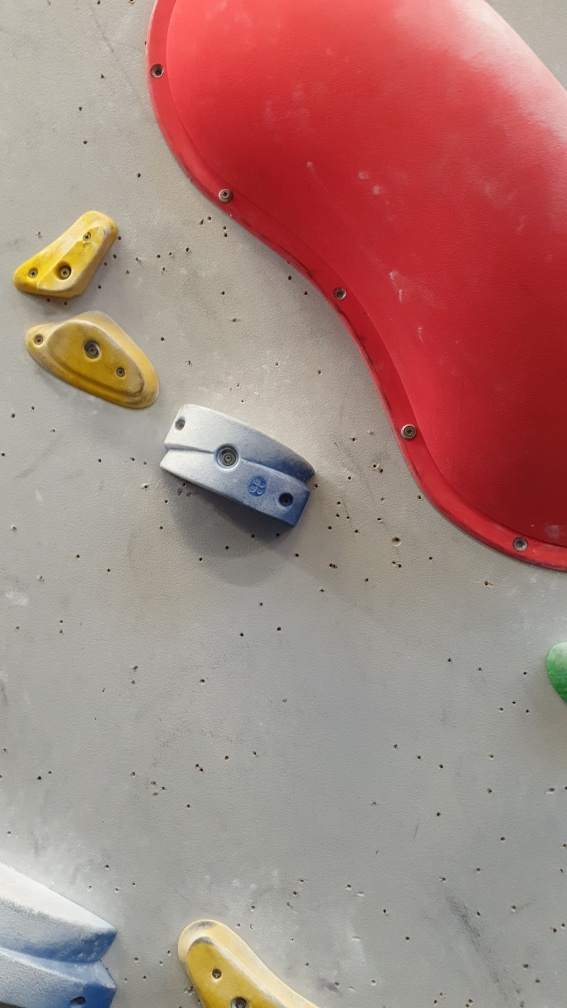Crimp: (43, 317, 150, 403), (178, 929, 290, 1008), (29, 219, 115, 301)
Pinch: (159, 399, 316, 529), (1, 853, 121, 1006)
